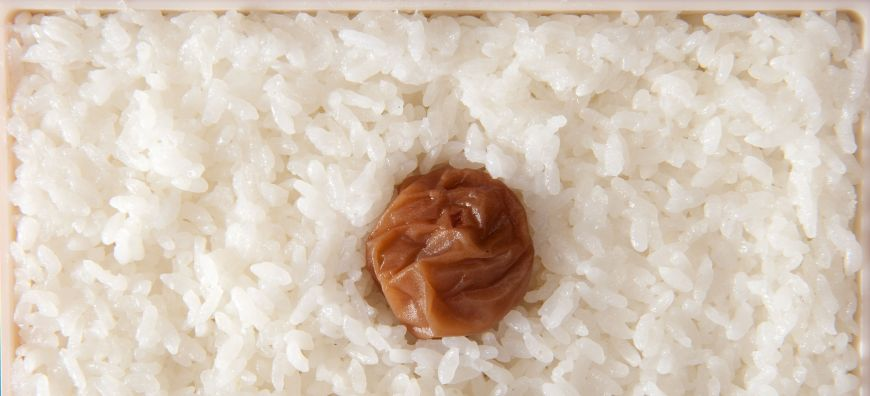plain rice: (39, 65, 352, 369), (548, 82, 819, 371)
